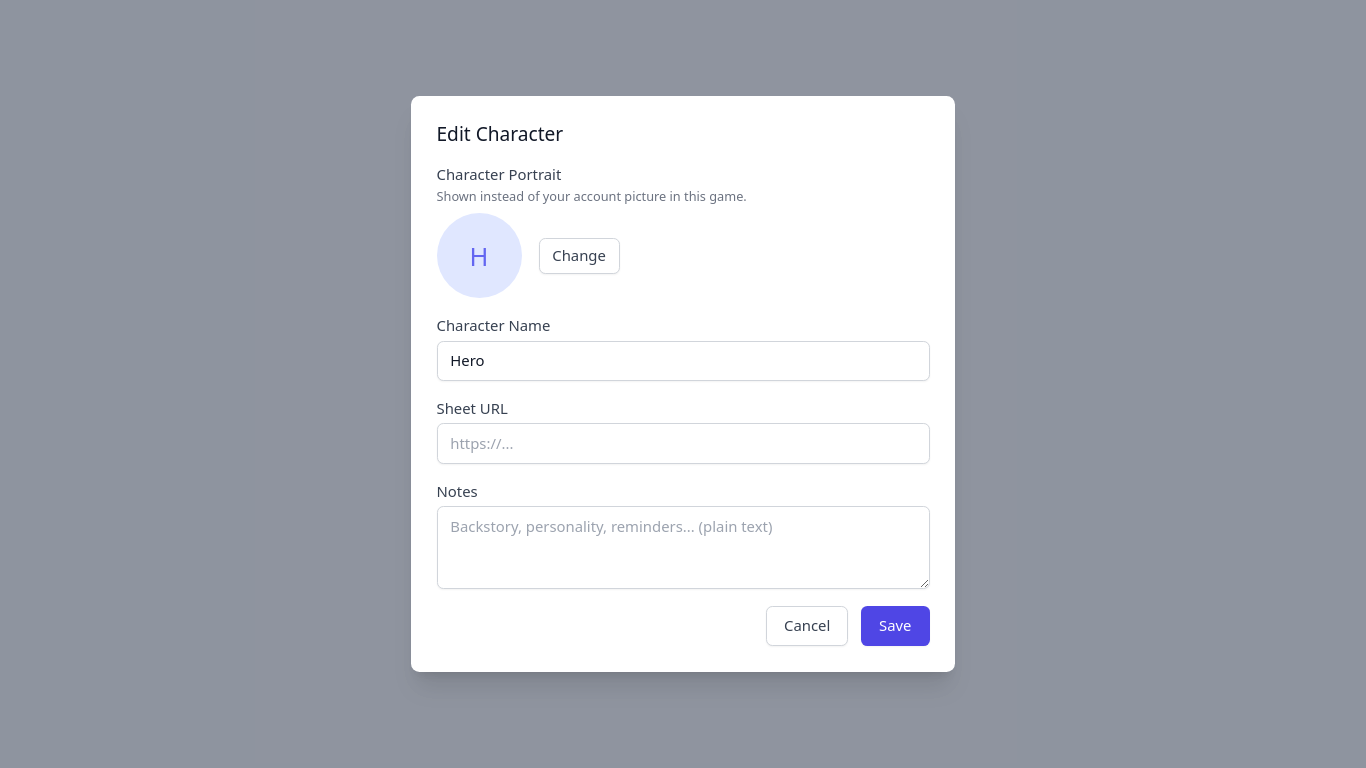
Test: EditCharacterModal › blocks saving an explicit non-http(s) sheet scheme with an inline error
Type "javascript:alert(1)" into the field labelled "Sheet URL" at (683, 444), box [436,423,930,464]
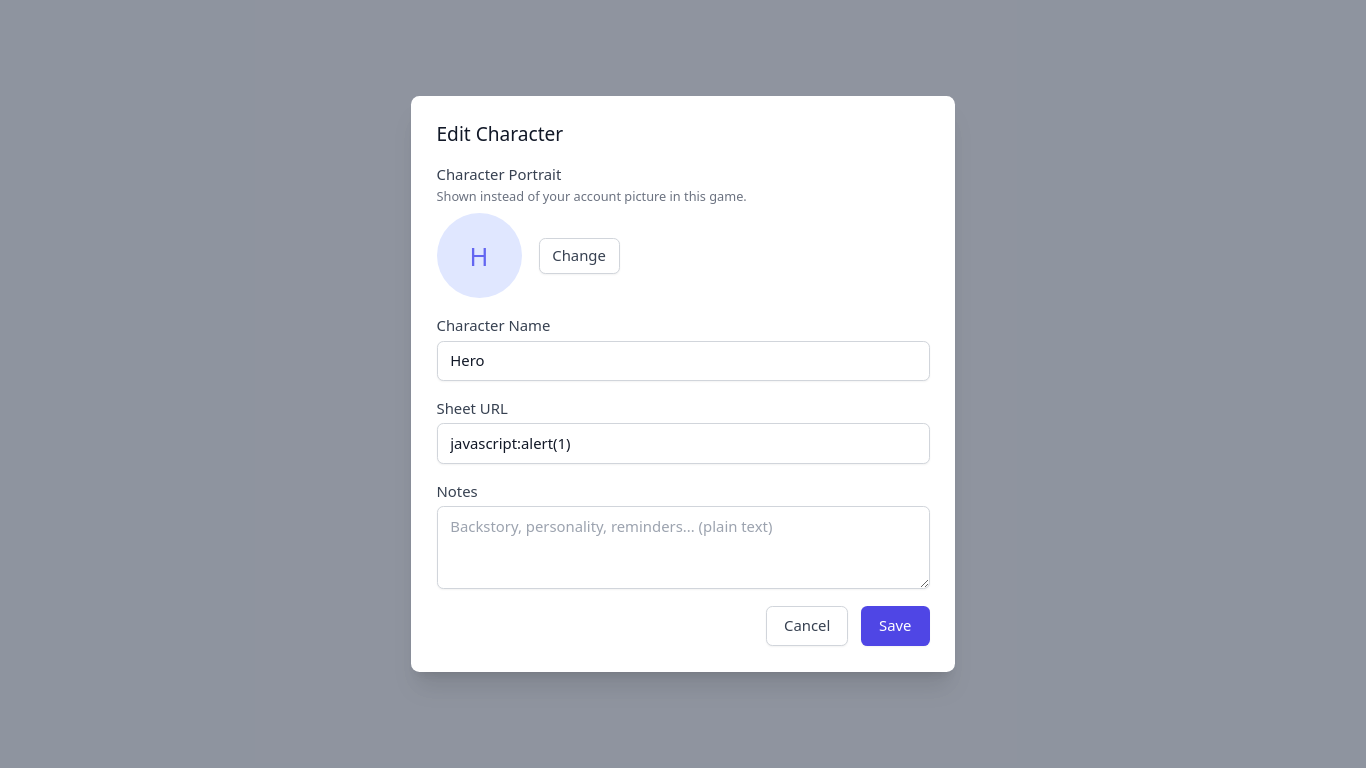
Click the button "Save" at (895, 626), box [861,606,930,646]
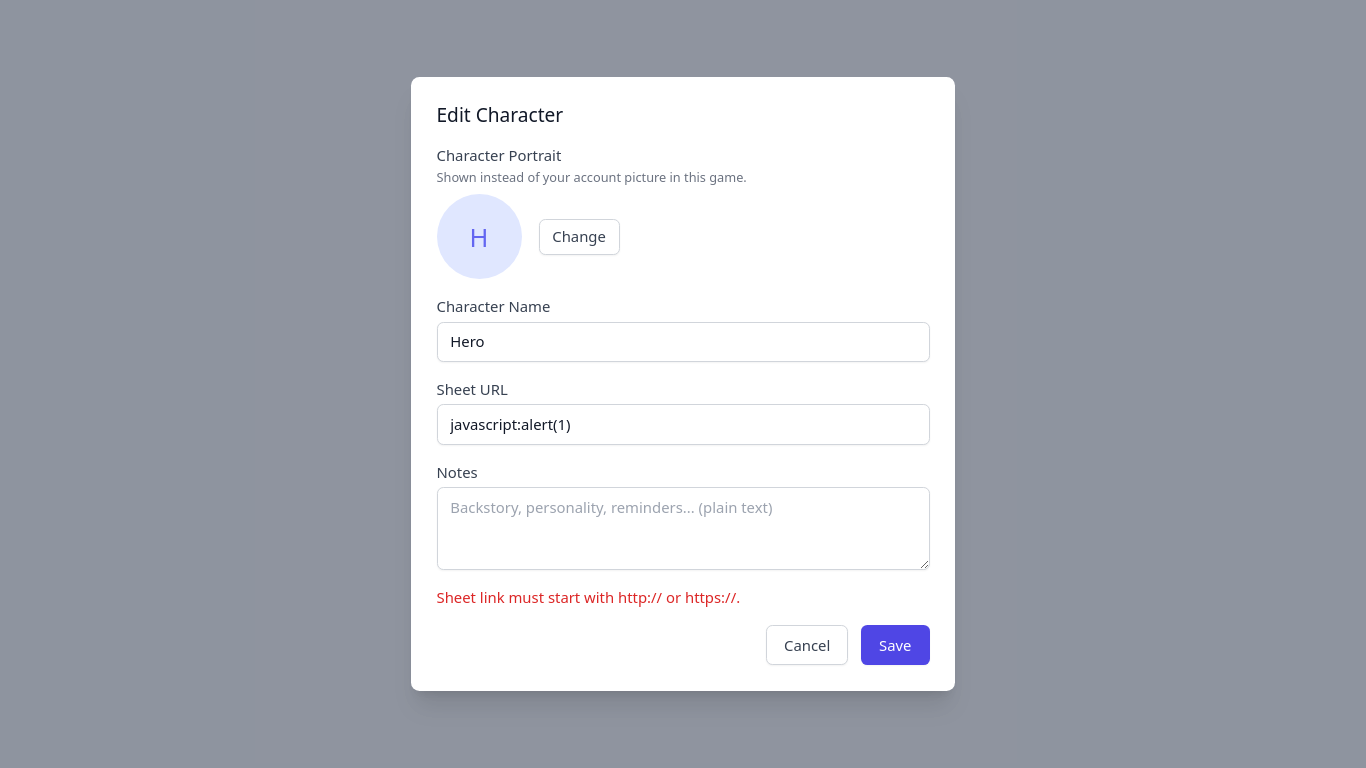
Expected: the text "Sheet link must start with http:// or https://." is shown, [436,587,740,607]
